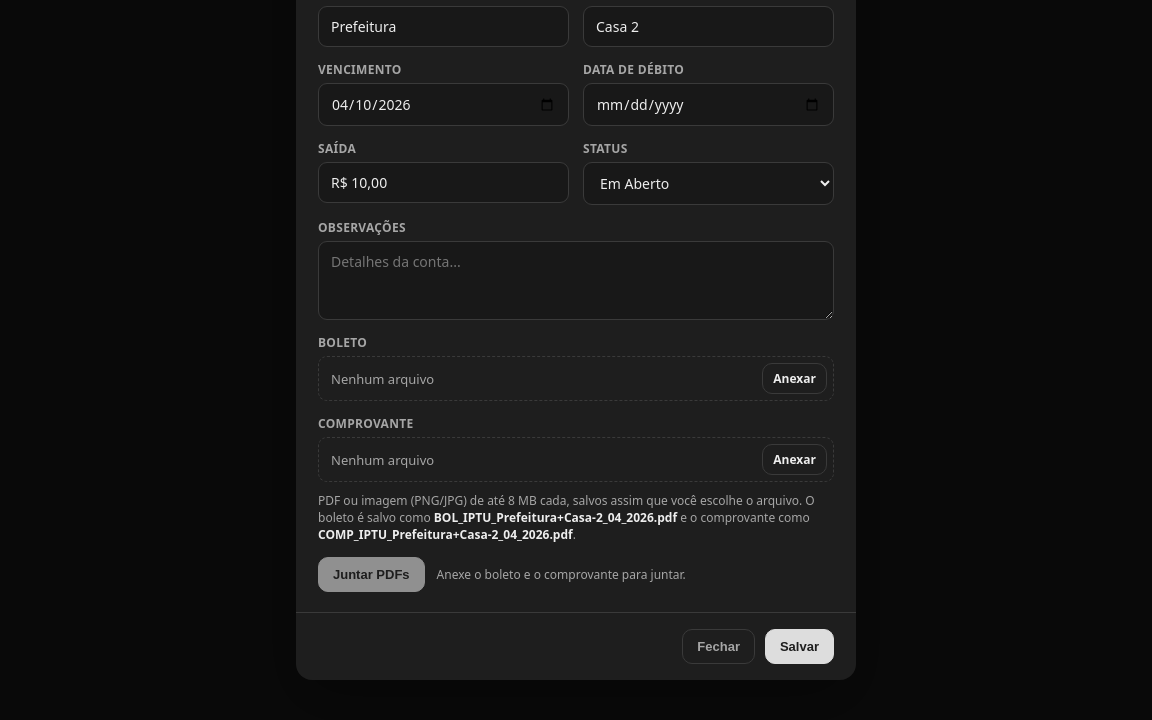
ContaEditModal files › locks every field and shows a spinner while saving
This screenshot has width=1152, height=720.
(page scrolled)
Click the button "Salvar" at (800, 646), box [765,629,834,664]
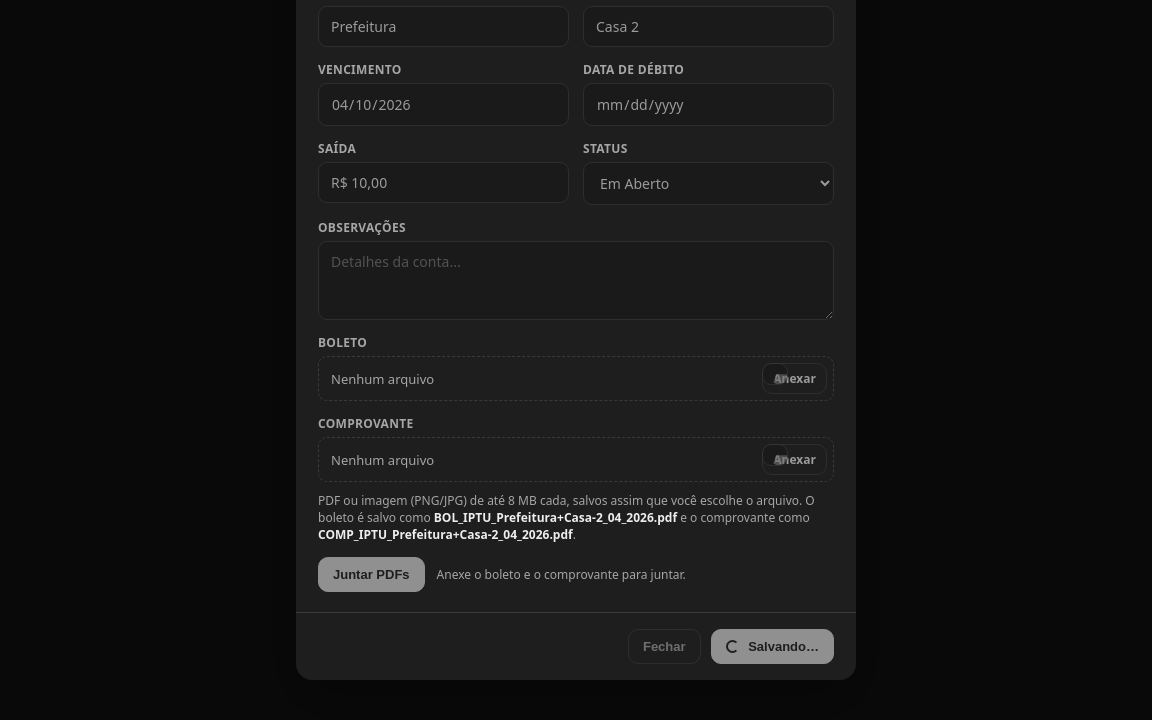
expect the button "Salvando…" is disabled: met, box [711,629,834,664]
expect the element with class "spinner" is shown: met, box [726,640,739,653]
expect the button "Fechar" is disabled: met, box [628,629,700,664]
Press Escape
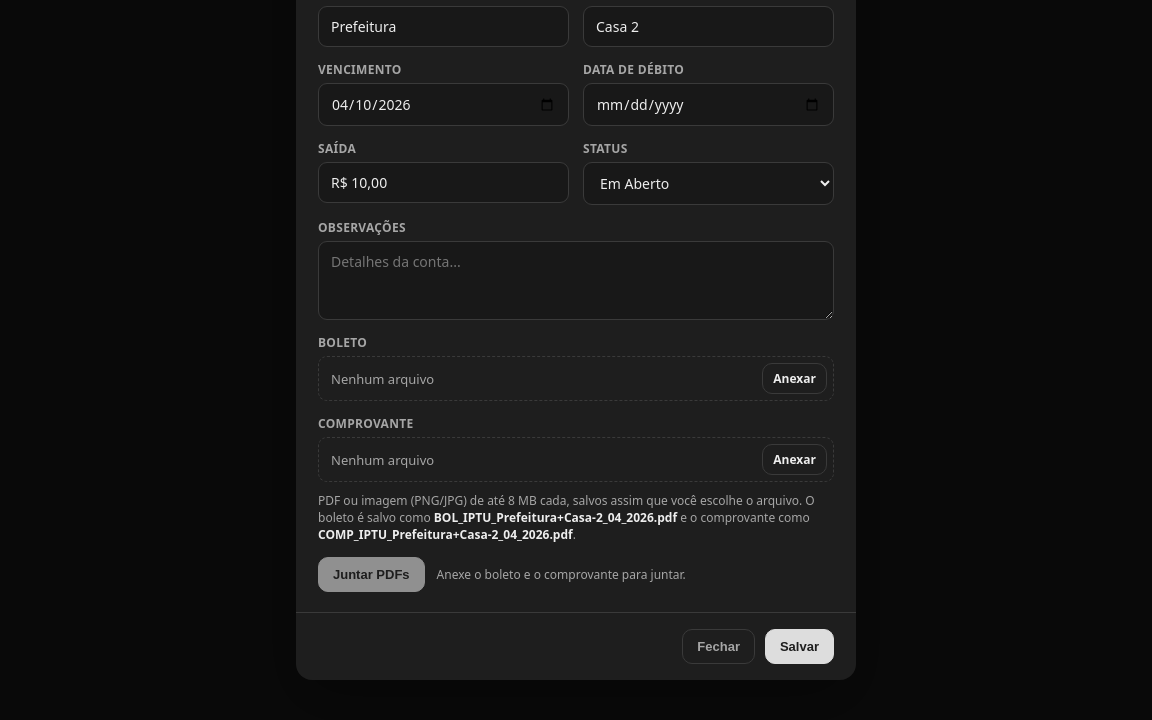
expect the 1st field with placeholder "Nome do beneficiário" is enabled: met, box [318,6,569,47]
expect the button "Salvar" is enabled: met, box [765,629,834,664]
